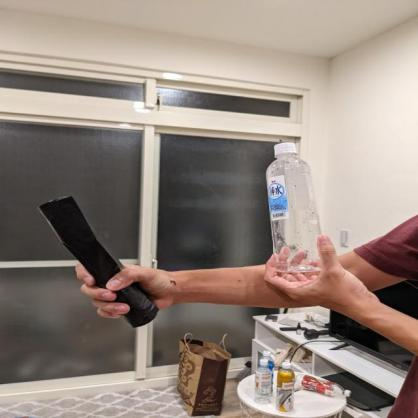bottle: (263, 139, 333, 274)
cap: (272, 140, 298, 160)
label: (258, 180, 288, 222)
